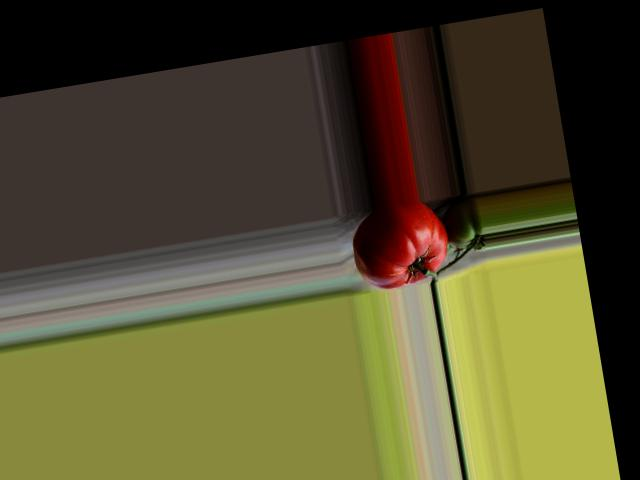tomato: (346, 197, 453, 293)
